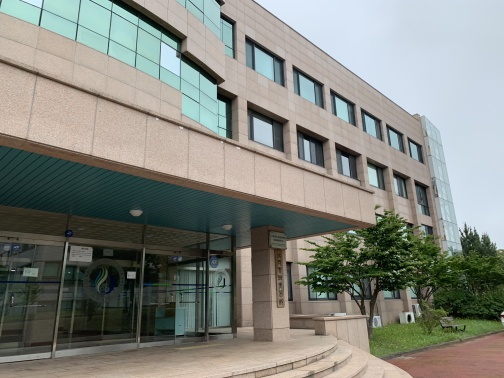Joint Experimental Labs: (10, 5, 373, 371), (150, 36, 457, 336)
